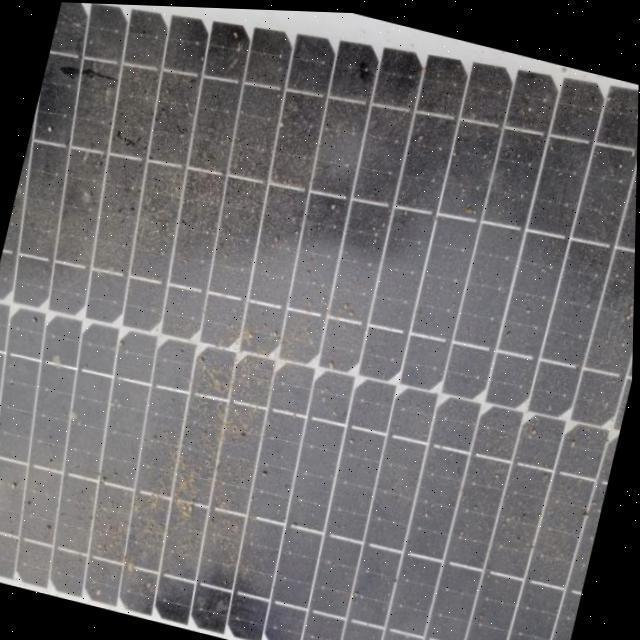Anomaly Solar Panel: (0, 0, 640, 640)
Surface Contaminant: (0, 2, 638, 640)
